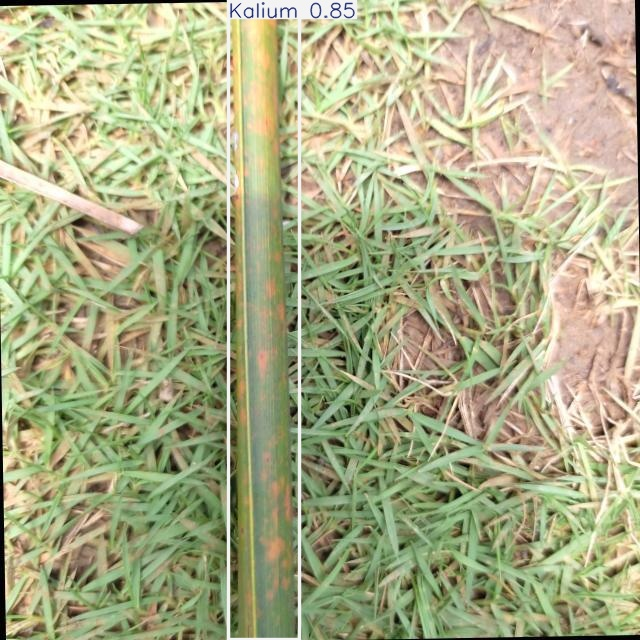Kalium: (228, 0, 300, 639)
